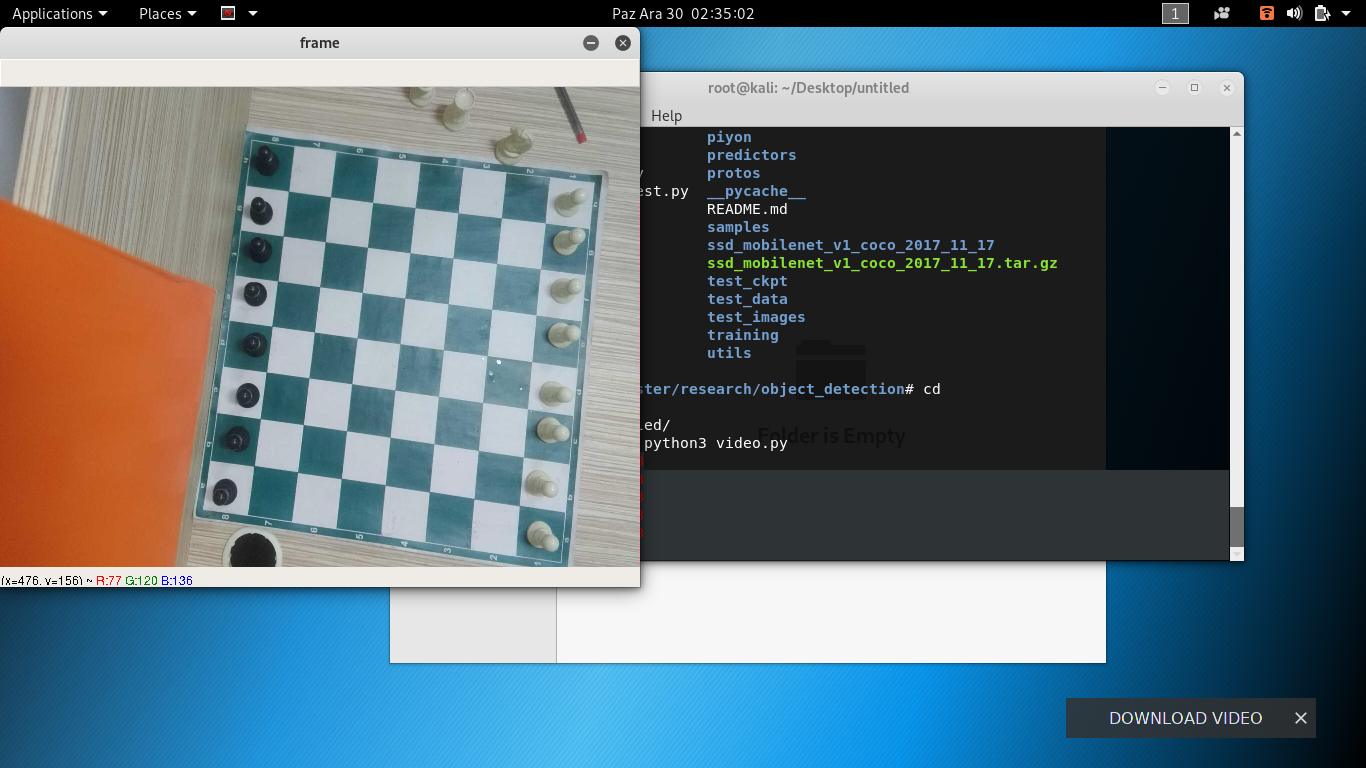BeyazPiyon: (527, 516, 560, 555), (525, 470, 561, 501), (538, 377, 573, 407), (551, 227, 587, 255), (537, 416, 570, 446), (548, 321, 582, 350), (552, 188, 587, 216), (549, 277, 585, 304)
SiyahPiyon: (253, 146, 282, 176), (209, 479, 240, 507), (241, 279, 269, 309), (249, 195, 277, 224), (246, 236, 275, 263), (235, 382, 261, 407), (225, 427, 252, 451), (241, 333, 266, 358)
